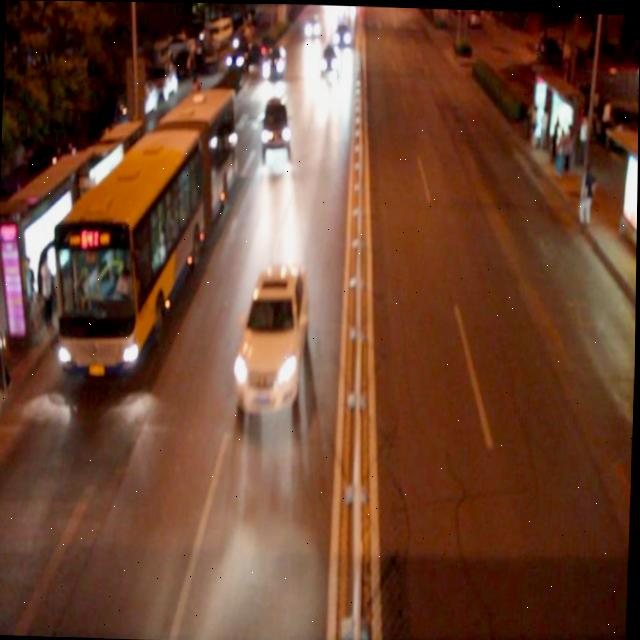car: (234, 257, 312, 413), (260, 41, 287, 80), (319, 42, 341, 72)
truck: (261, 93, 291, 150)
van: (49, 79, 232, 375)
